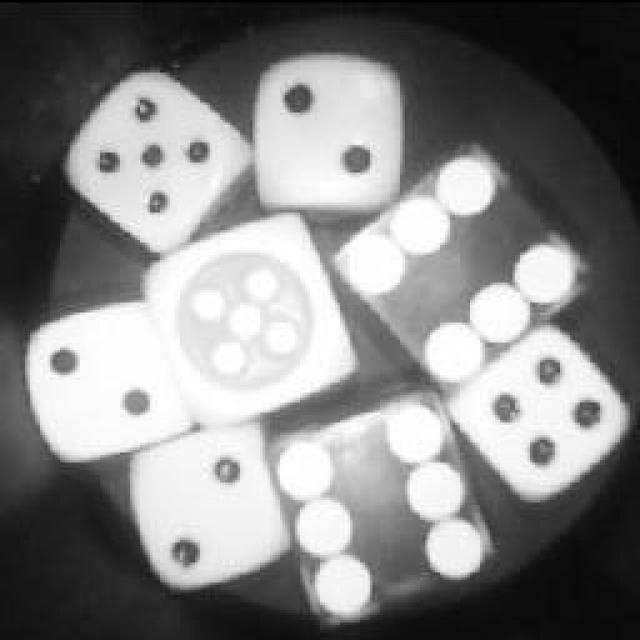dice_2: (17, 290, 205, 465), (118, 415, 290, 590), (245, 45, 410, 215)
dice_4: (440, 325, 630, 503)
dice_5: (135, 205, 360, 430), (52, 65, 262, 260)
dice_6: (327, 132, 595, 380), (253, 380, 495, 630)
